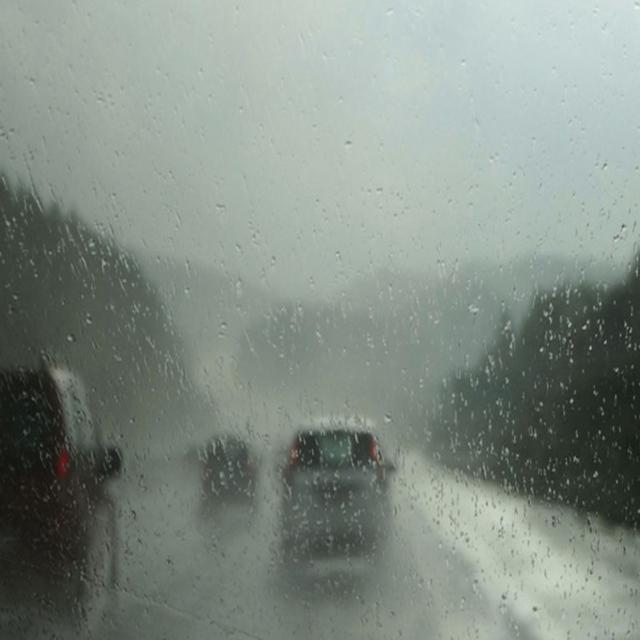car: (2, 361, 128, 636), (272, 424, 394, 584), (198, 436, 260, 526)
